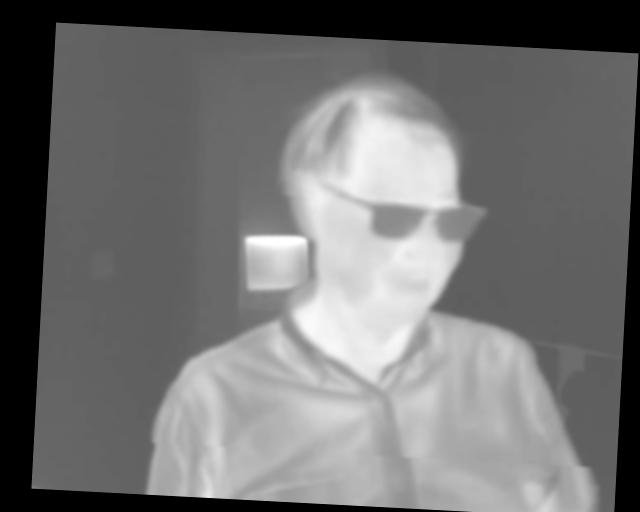face: (271, 64, 480, 316)
